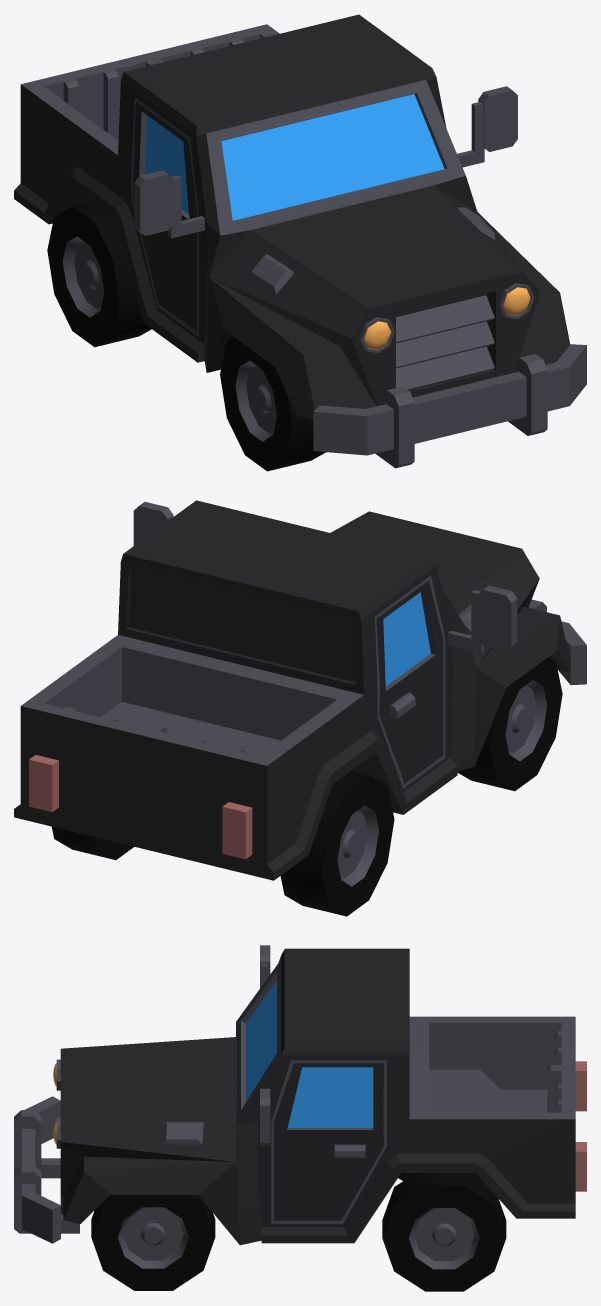
Rendered from Jeep_4.fbx.
3 views of the same model, one above another, from view 1: azimuth 30°, elevation 25°; view 2: azimuth 150°, elevation 25°; view 3: azimuth 270°, elevation 25° (orthographic). The views are drawn at different scales.
Parts seen in each view (by area): view 1: Jeep_4; view 2: Jeep_4; view 3: Jeep_4.
Part boxes in pixels (x1,y1,x2,y2): Jeep_4: [14, 14, 586, 471]; Jeep_4: [14, 500, 586, 916]; Jeep_4: [14, 945, 586, 1291].
Size of the model in its own units: 92.04 by 64.59 by 142.
